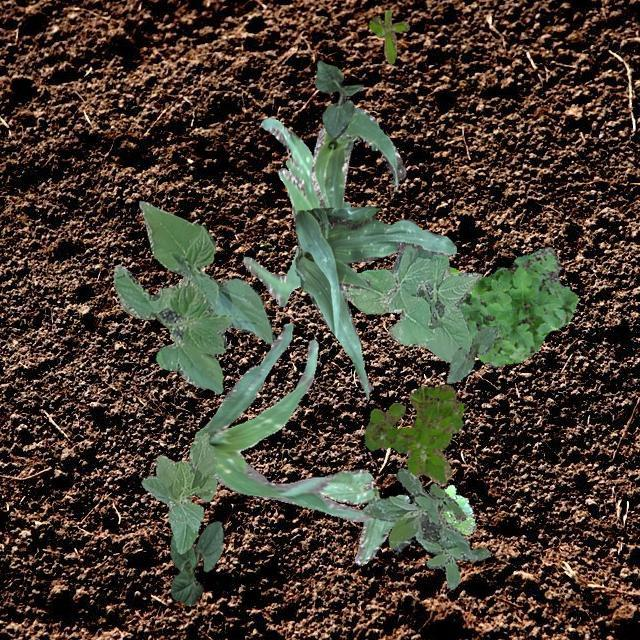crop: (194, 322, 370, 520), (294, 205, 456, 398), (113, 200, 274, 392), (242, 117, 350, 306), (342, 244, 480, 362), (310, 106, 404, 208), (140, 432, 218, 552), (318, 468, 408, 564), (168, 520, 222, 604), (314, 60, 362, 138), (446, 324, 496, 382)
weed: (362, 466, 489, 590), (448, 246, 576, 366), (364, 384, 464, 486), (368, 8, 408, 62), (442, 484, 474, 534)
